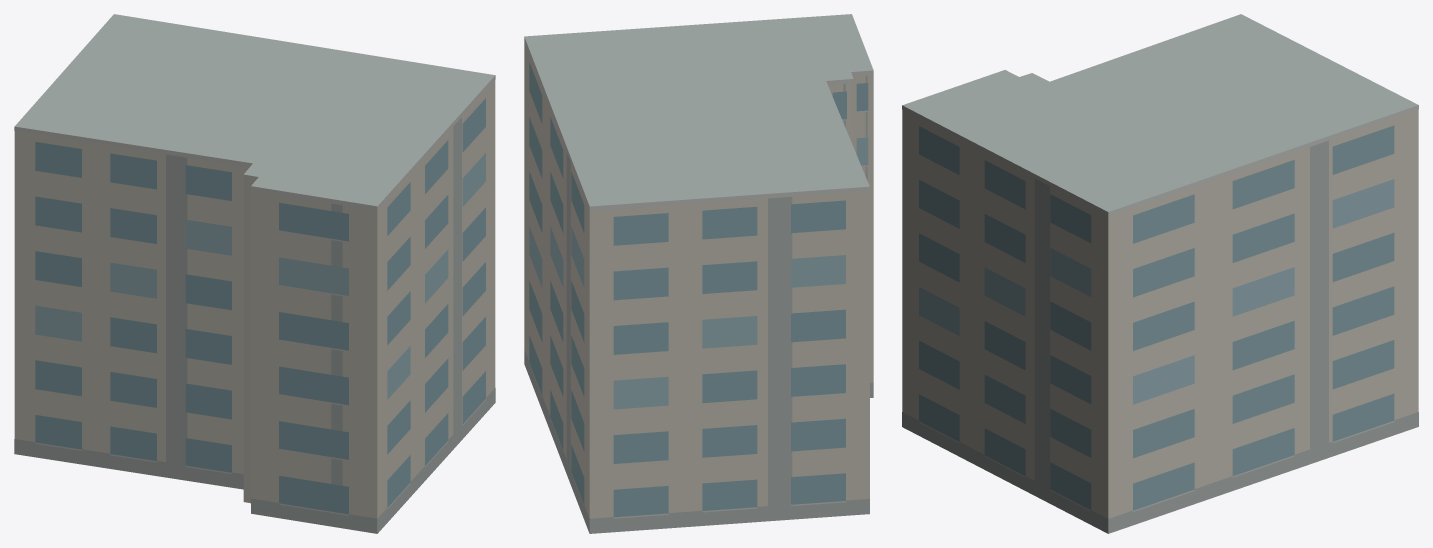
File: survey-upis-32832944.glb
The picture shows the model from 3 angles, left to right: view 1: azimuth 30°, elevation 25°; view 2: azimuth 150°, elevation 25°; view 3: azimuth 270°, elevation 25°; orthographic projection.
Parts seen in each view (by area): view 1: survey-upis-32832944.tmp; view 2: survey-upis-32832944.tmp; view 3: survey-upis-32832944.tmp.
Boxes of the visible parts, <box> form: survey-upis-32832944.tmp: <box>14,14,495,533</box>; survey-upis-32832944.tmp: <box>524,14,873,533</box>; survey-upis-32832944.tmp: <box>902,14,1418,533</box>.
Size of the model in its own units: 23.25 by 17.6 by 25.61.
